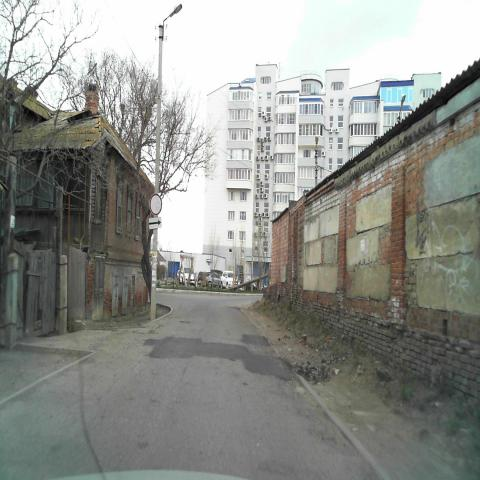3_2: (149, 194, 162, 216)
8_3_1: (148, 216, 162, 230)
